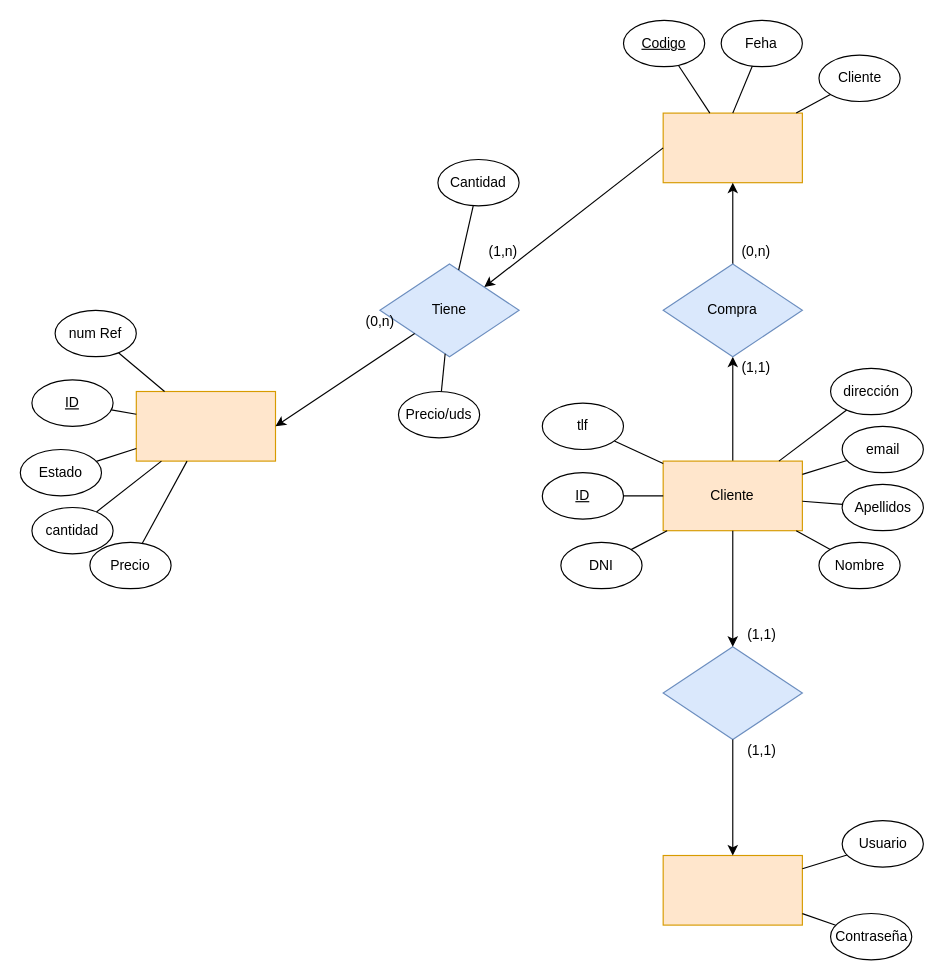
The diagram is 944 pixels wide and 980 high, and some of its shapes have lost their labels. The centre of each missing label's shape, as x and y in pixels:
LogIn: pixel 732 889
Producto: pixel 205 425
Registra: pixel 732 693
Venta: pixel 732 147
